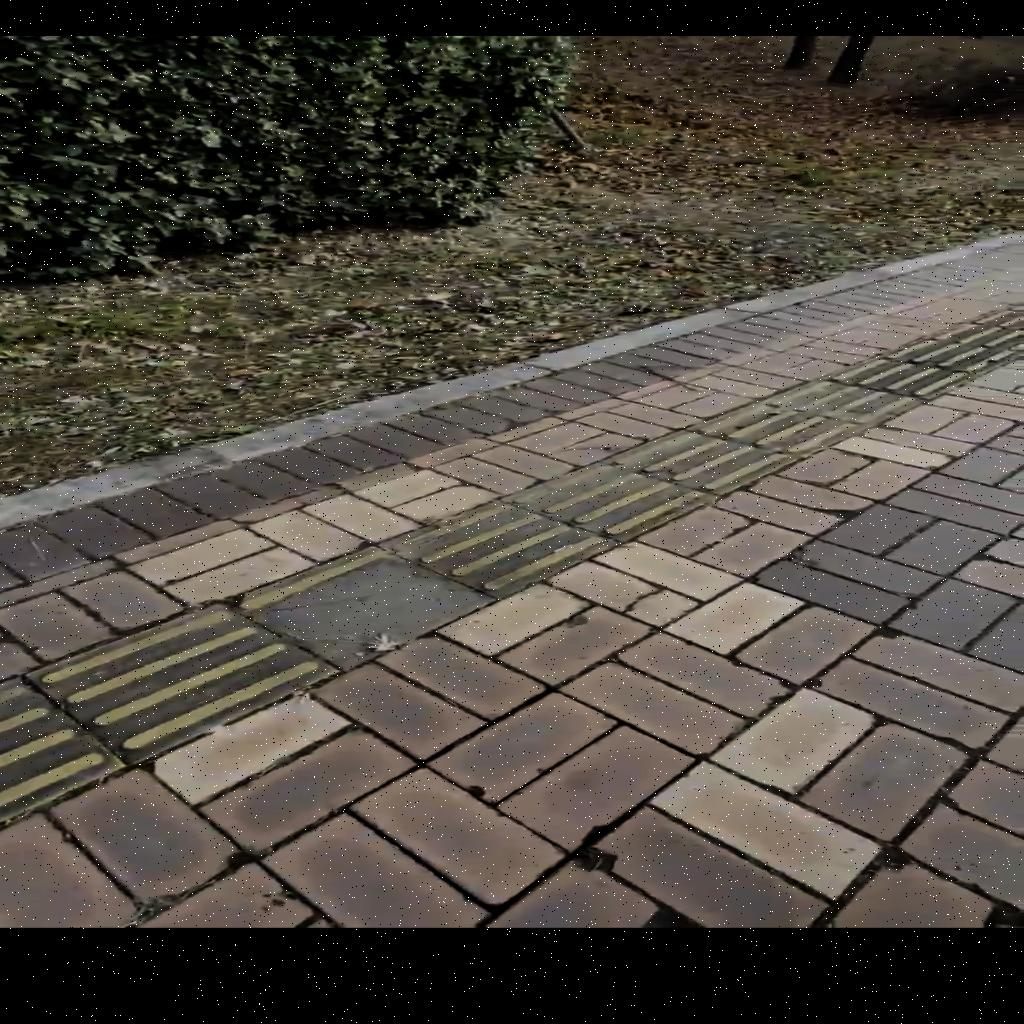Straight block broken: (224, 497, 495, 706), (502, 442, 718, 561)
Straight block normal: (26, 557, 340, 789), (376, 468, 619, 631), (601, 414, 797, 509)
